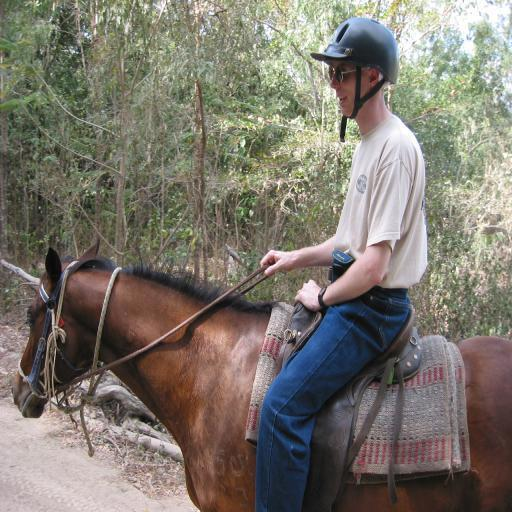horse: (10, 236, 512, 512)
